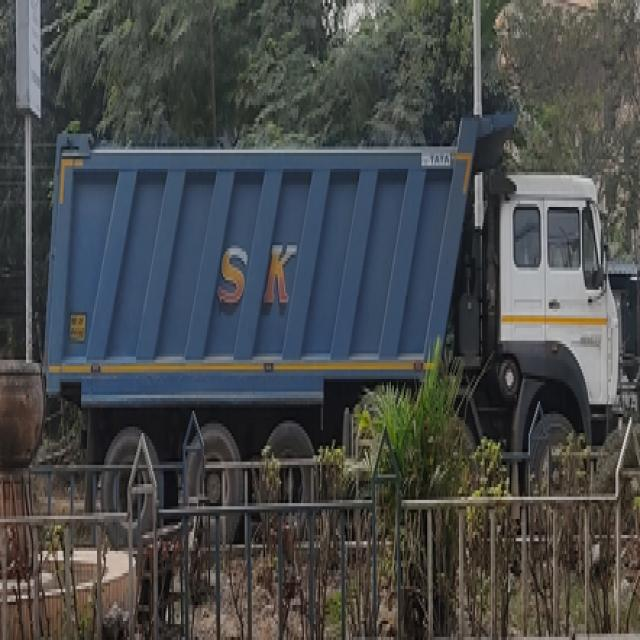truck: (41, 105, 627, 535)
